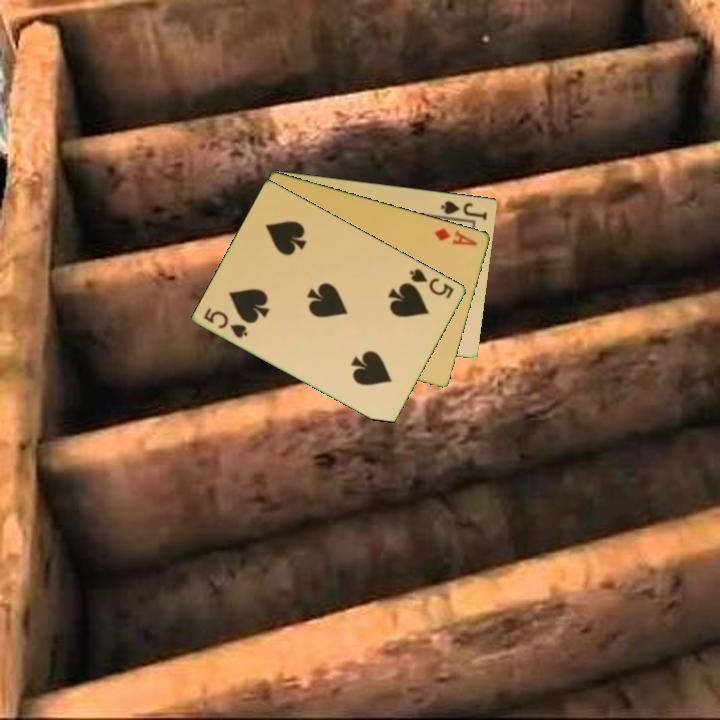5s: (200, 304, 252, 341), (406, 265, 457, 302)
Ad: (431, 224, 480, 248)
Js: (438, 197, 490, 223)
